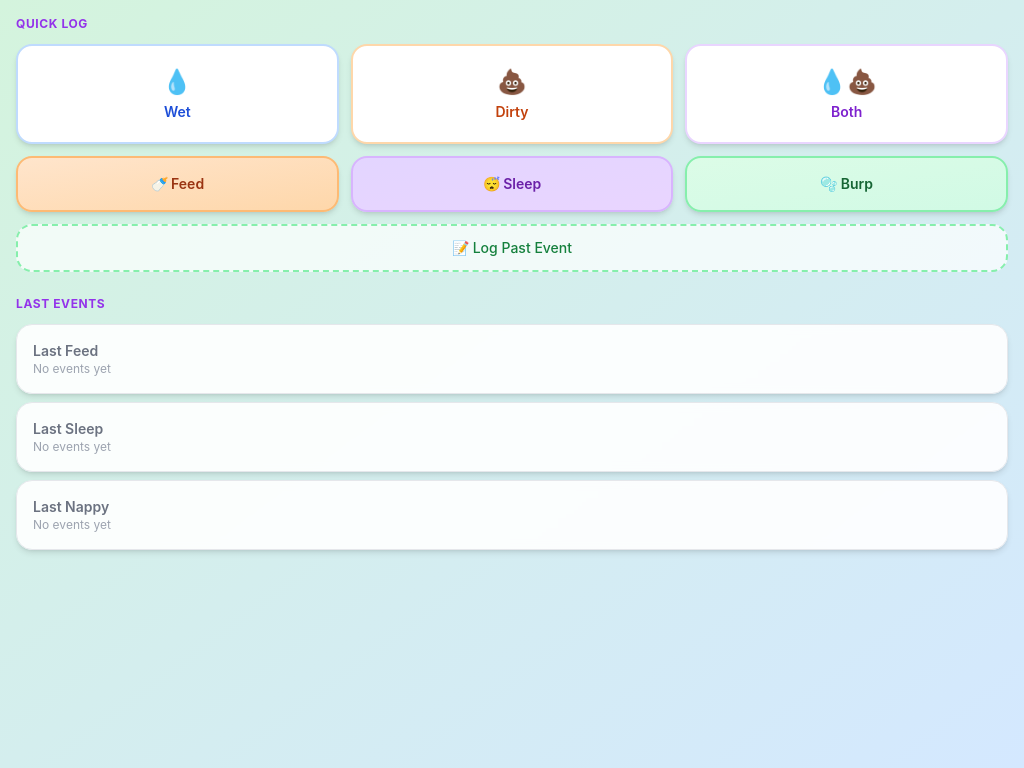
Test: Dashboard — diaper quick log › disables diaper buttons while a diaper is being logged
Click the button "💧 Wet" at (177, 94), box [16,44,339,144]
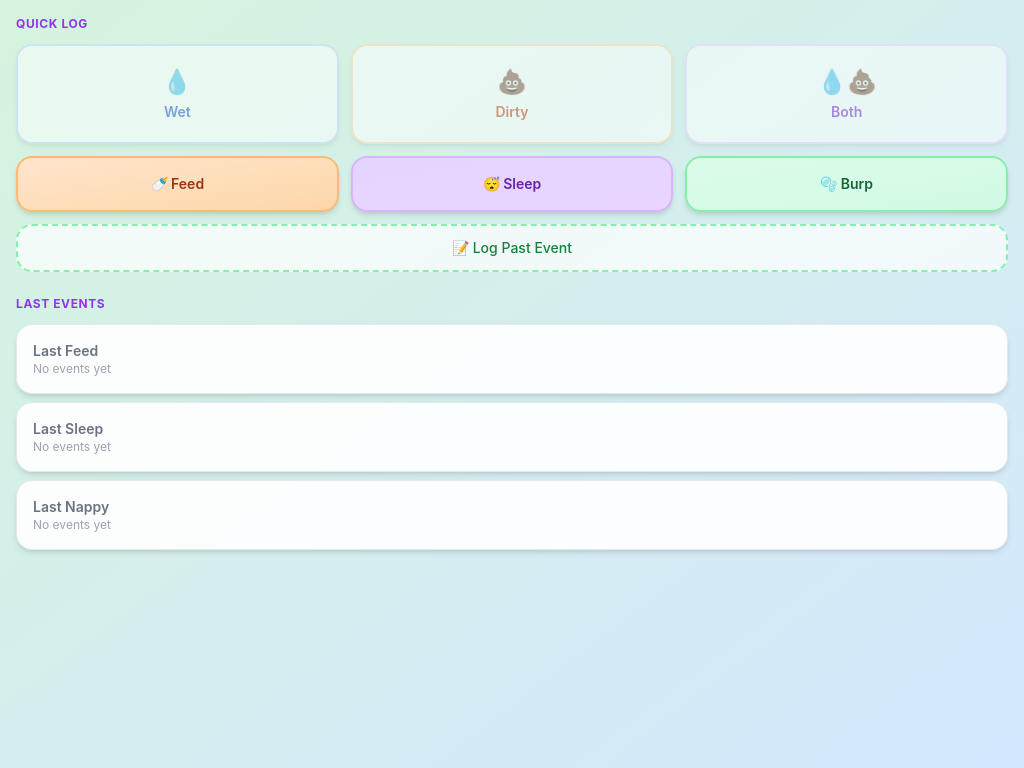
Now the button "💧 Wet" is disabled, box [16,44,339,144]
Now the button "💩 Dirty" is disabled, box [351,44,673,144]
Now the button "💧💩 Both" is disabled, box [685,44,1008,144]
